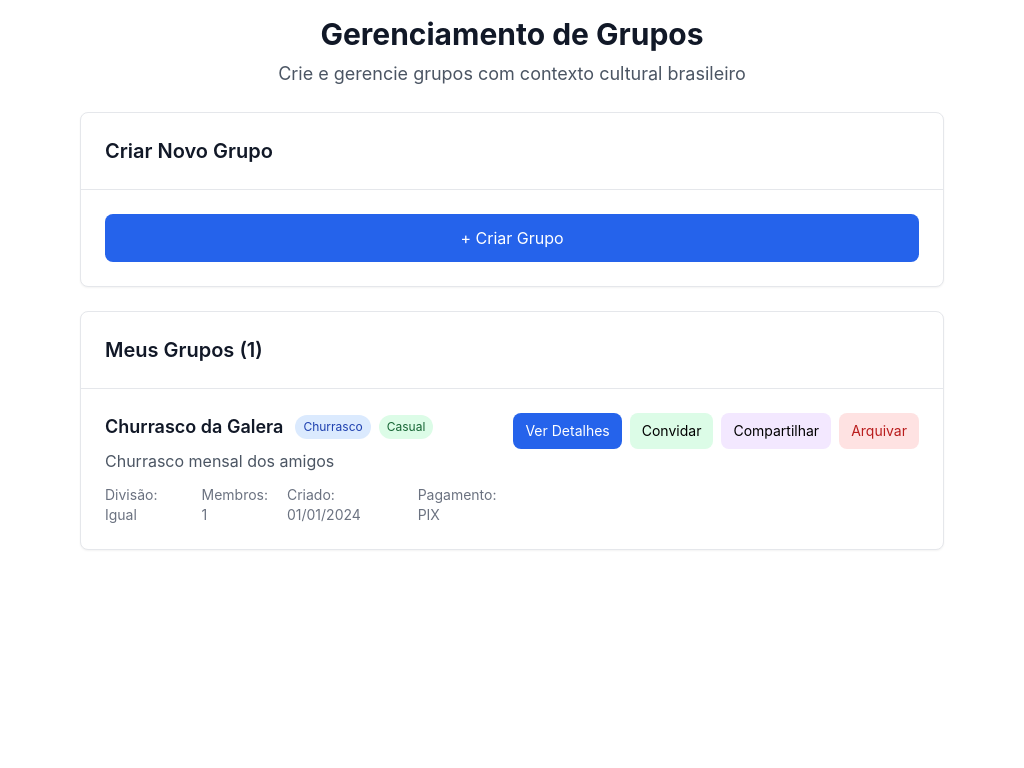
Test: GroupManagement Component - Story 5.2 › Brazilian Market Requirements Tests › should represent cultural contexts properly
Expected: the heading "Churrasco da Galera" is shown, [105,413,283,441]
Click the button "Ver Detalhes" at (568, 431), box [513,413,622,449]
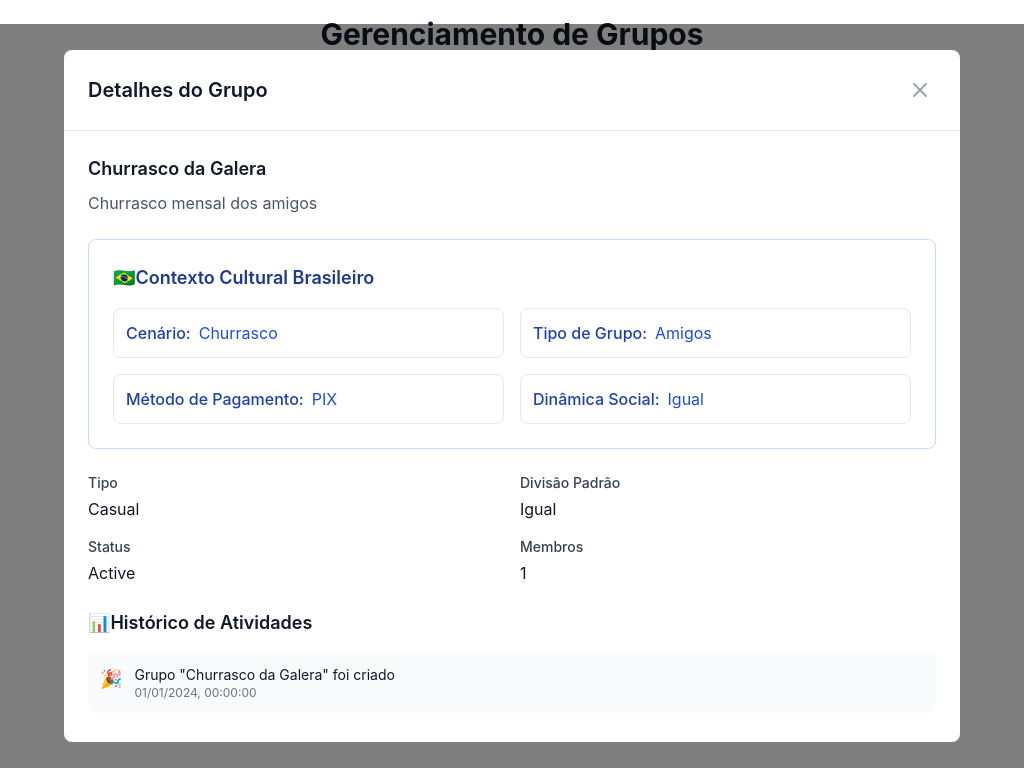
Result: the heading "🇧🇷 Contexto Cultural Brasileiro" is shown at [113,267,374,288]
Result: the text "Cenário:" is shown at [126,323,191,343]
Result: the text "Tipo de Grupo:" is shown at [533,323,647,343]
